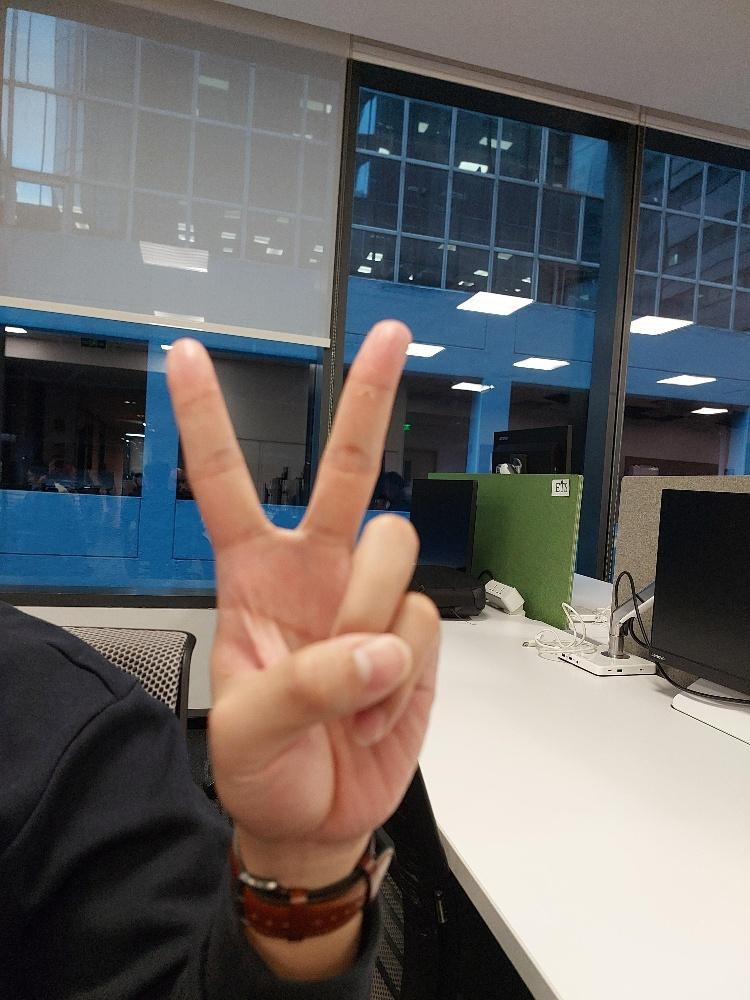v: (163, 319, 440, 843)
